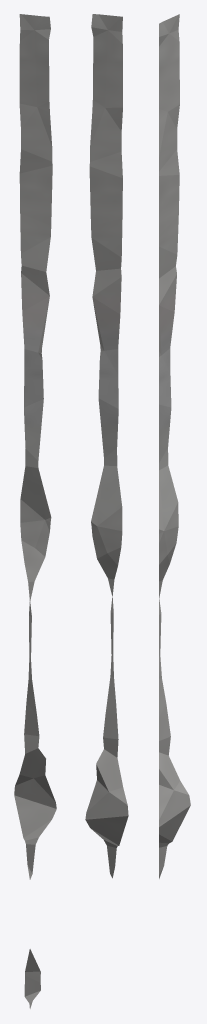
3 renders of one model, left to right at view 1: azimuth 30°, elevation 25°; view 2: azimuth 210°, elevation 25°; view 3: azimuth 270°, elevation 25°, orthographic.
Bounding box in the file's own units: 0.0155 × 0.5453 × 0.0158.
1 material, 1 textured.
